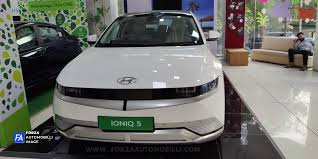Honda Ioniq: (47, 9, 229, 159)
